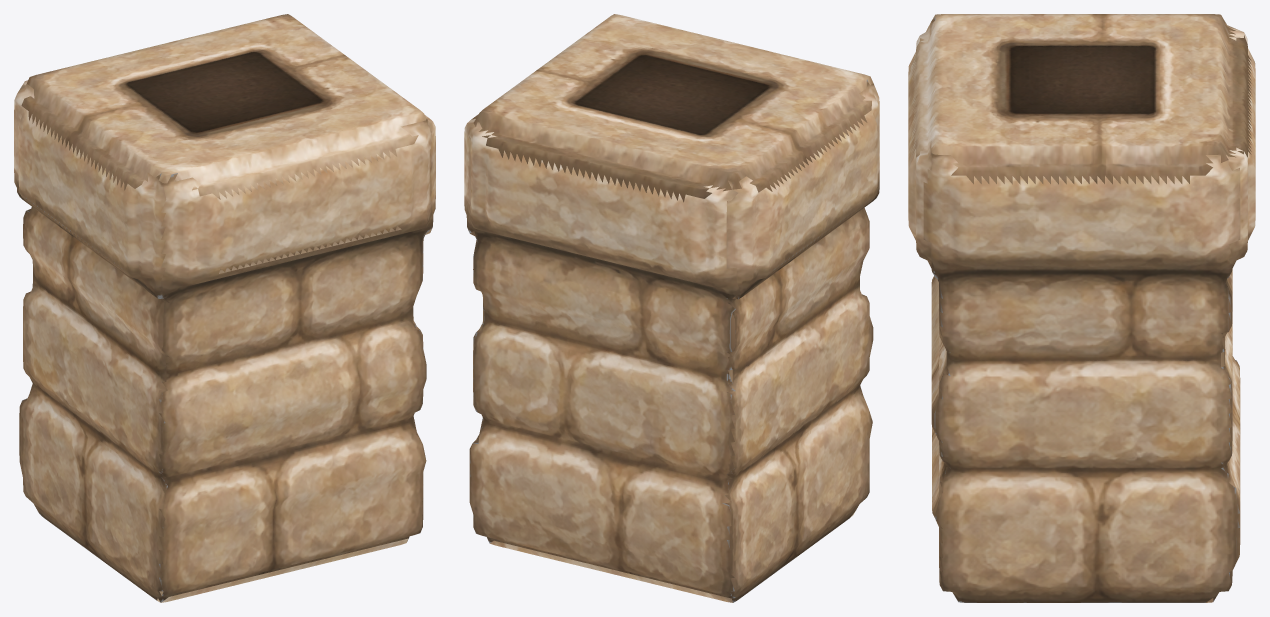
The model's file is potion-chimney.glb.
3 renders of one model, left to right at view 1: azimuth 30°, elevation 25°; view 2: azimuth 150°, elevation 25°; view 3: azimuth 270°, elevation 25°, orthographic. The views are drawn at different scales.
Bounding box in the file's own units: 0.7229 × 1 × 0.6836.
1 material, 1 textured.
